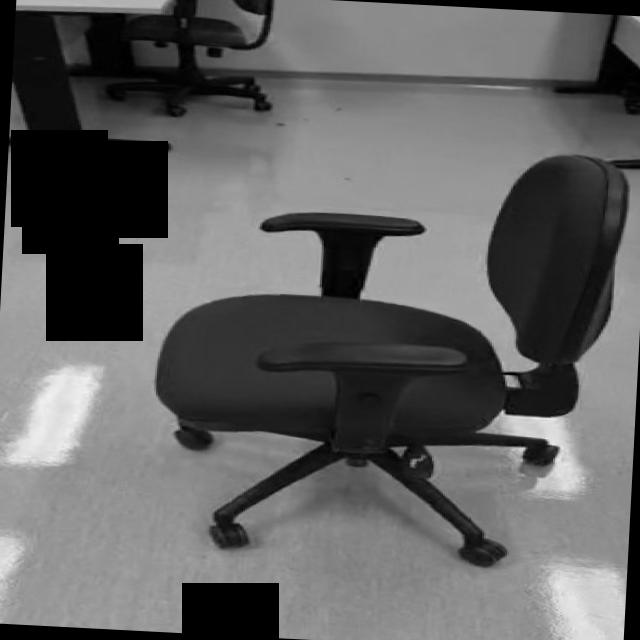cadeira-azul: (144, 133, 633, 572)
